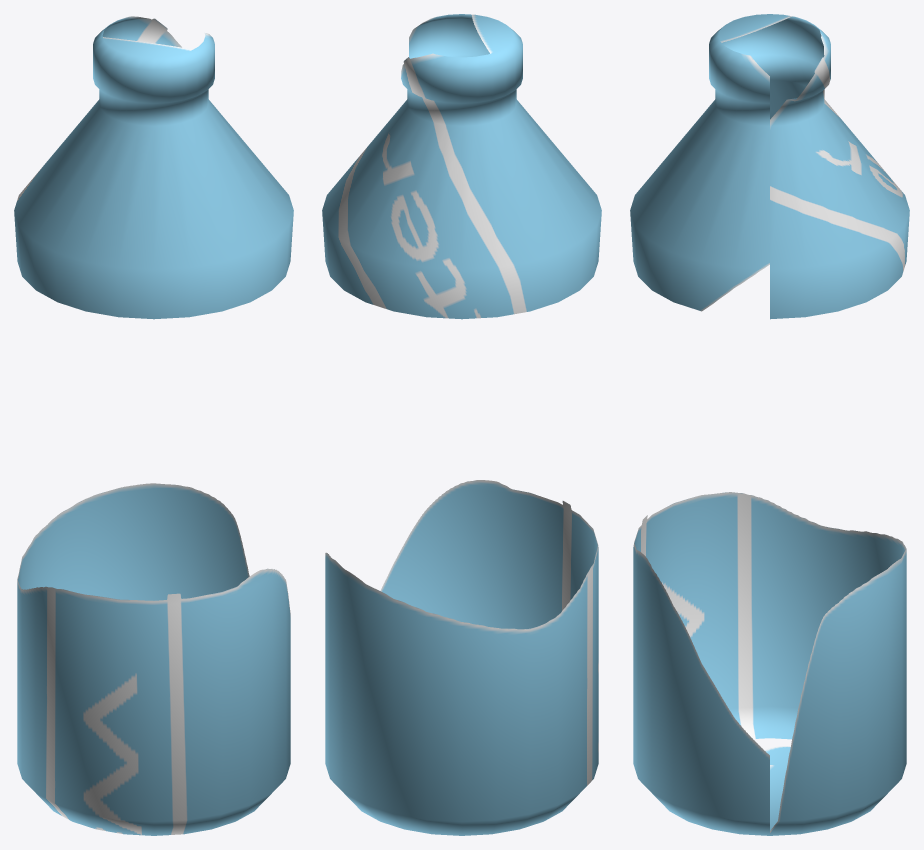
Rendered from Water.fbx.
The picture shows the model from 3 angles, left to right: view 1: azimuth 30°, elevation 25°; view 2: azimuth 150°, elevation 25°; view 3: azimuth 270°, elevation 25°; orthographic projection.
Parts seen in each view (by area): view 1: Water; view 2: Water; view 3: Water.
Part boxes in pixels (<box>): Water: <box>14,16,293,835</box>; Water: <box>322,14,601,835</box>; Water: <box>630,14,909,835</box>.
Size of the model in its own units: 142 by 419 by 142.
